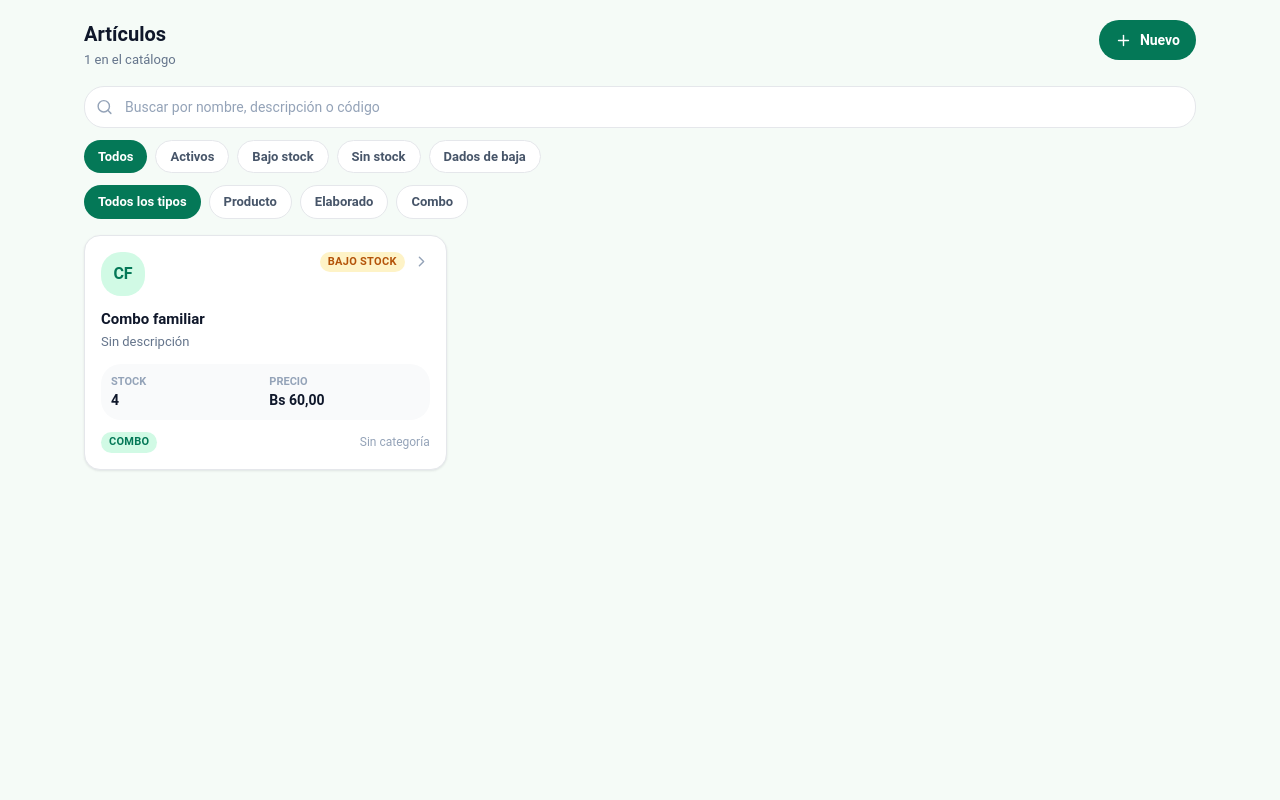
Scenario: bamardev-restaurant: el catálogo se ve como siempre › la receta del combo va sin ceros de más
Click the heading "Combo familiar": (153, 318) [101,310,205,328]
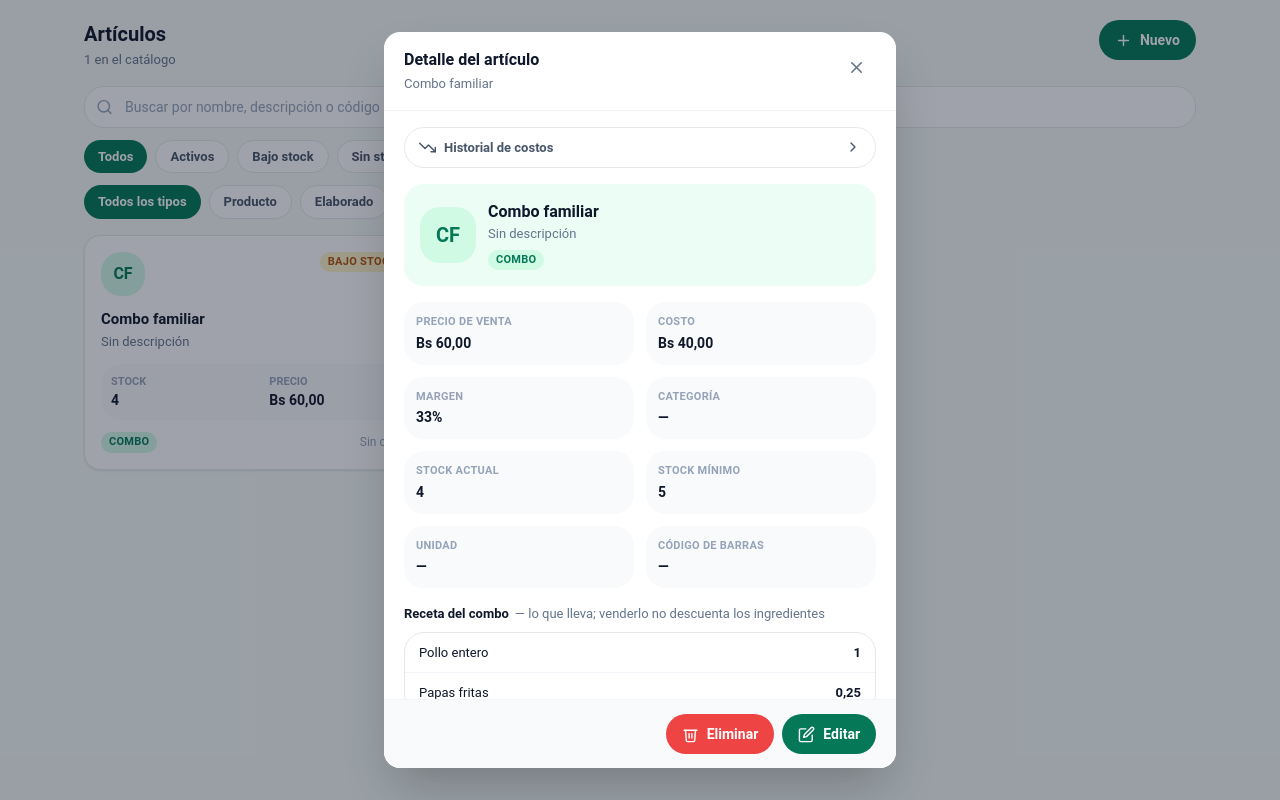
Result: the list item "Pollo entero" reads "Pollo entero 1" at [405,632,875,673]
Result: the list item "Papas fritas" reads "Papas fritas 0,25" at [419,685,861,699]
